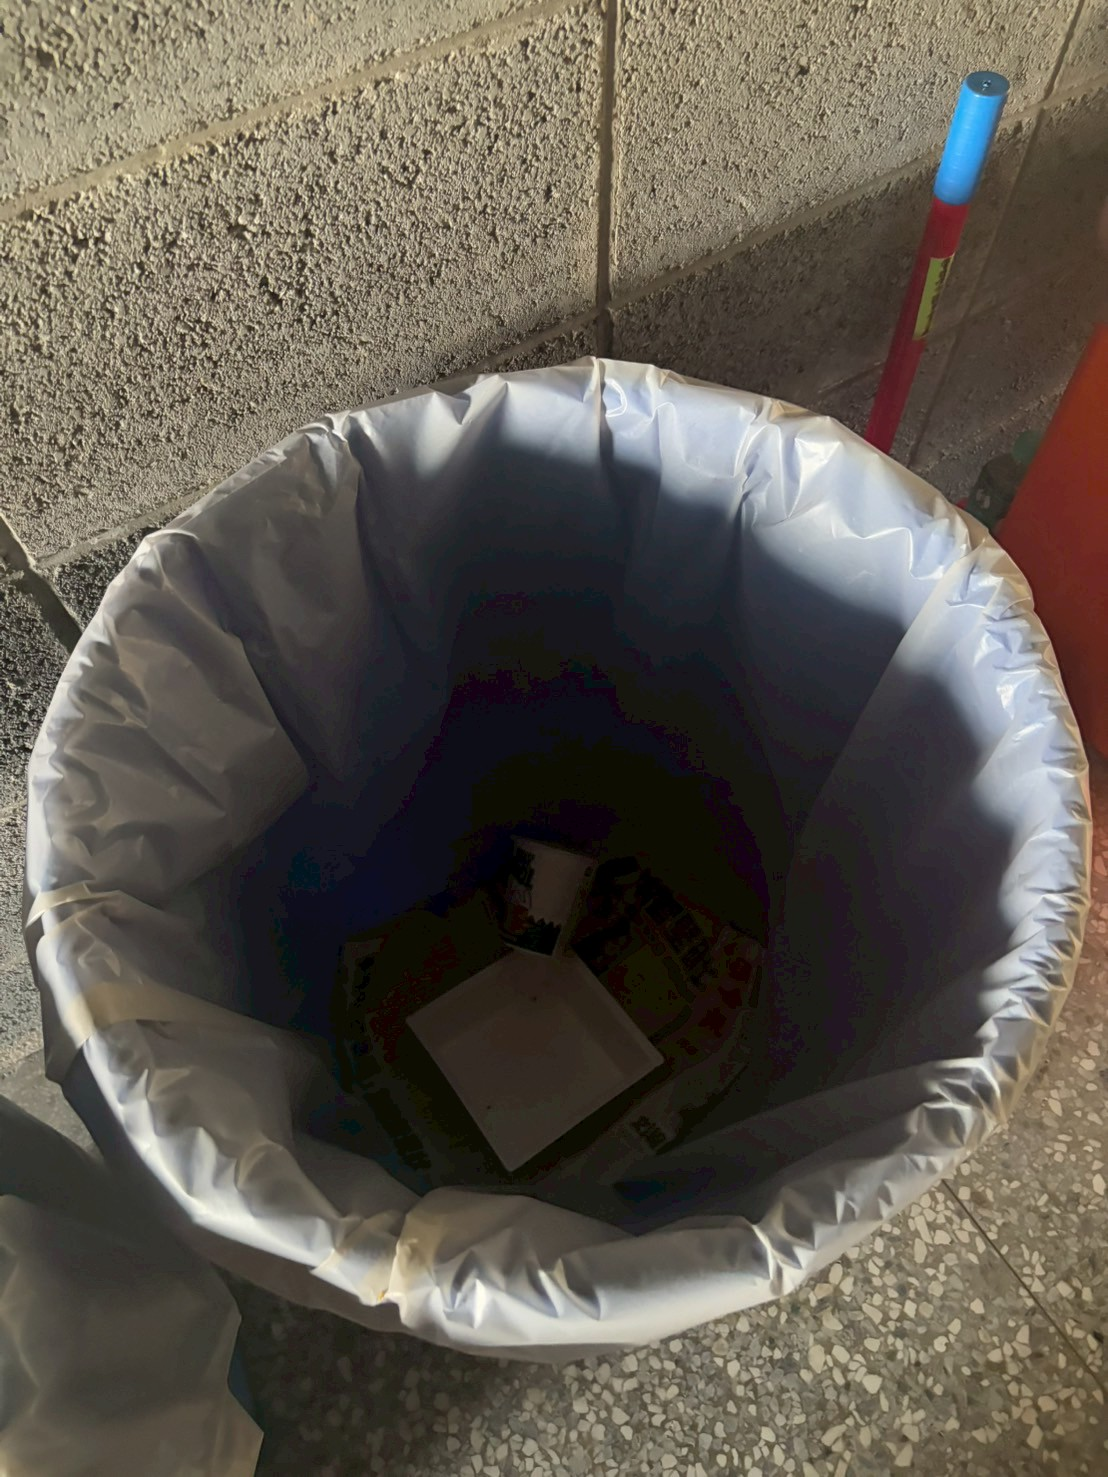normal_bin: (10, 333, 1108, 1366)
